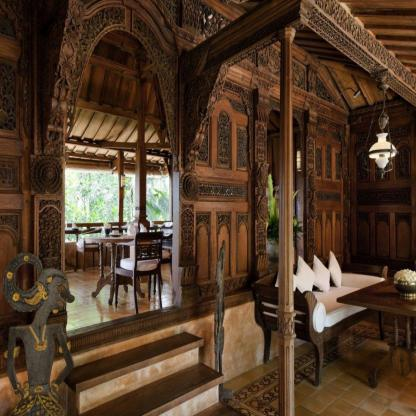bantal: (296, 258, 315, 295), (313, 258, 332, 294), (329, 257, 345, 288)
kursi: (255, 259, 388, 364), (108, 231, 164, 307)
